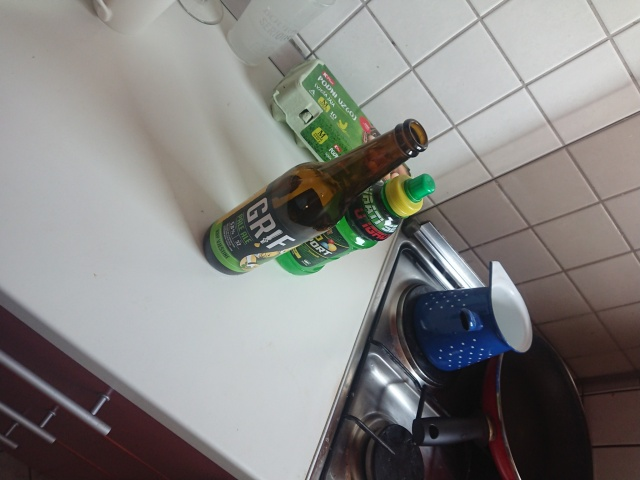Vindi Iso Sport Lemon-Grapefruit 500mL: (271, 171, 438, 278)
